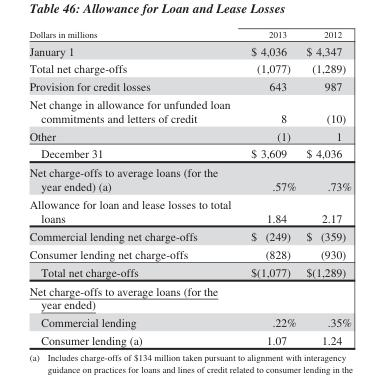table: (28, 28, 350, 346)
table column: (28, 28, 240, 346), (240, 28, 300, 346), (300, 28, 350, 346)
table column header: (28, 28, 350, 41)
table projected row header: (28, 281, 350, 313)
table row: (28, 162, 350, 194), (28, 194, 350, 226), (28, 281, 350, 313), (28, 95, 350, 126), (28, 226, 350, 245), (28, 262, 350, 281), (28, 41, 350, 59), (28, 59, 350, 77), (28, 77, 350, 95), (28, 126, 350, 144), (28, 144, 350, 162), (28, 313, 350, 331), (28, 245, 350, 262), (28, 331, 350, 346), (28, 28, 350, 41)
